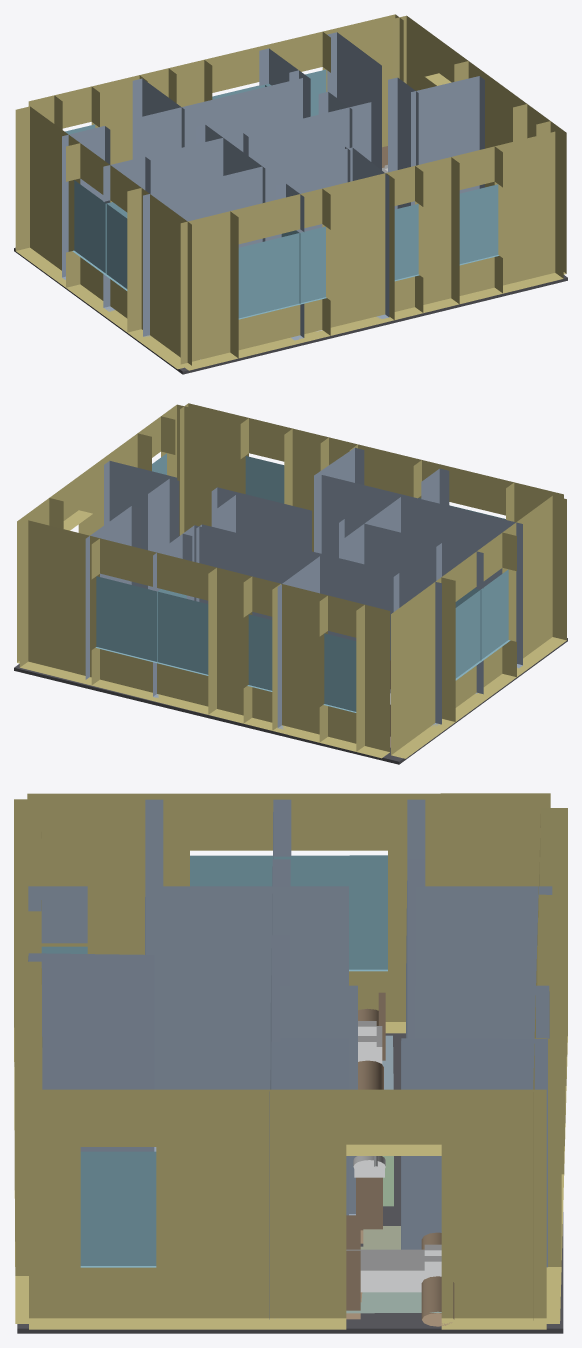
Rendered from building_3d.glb.
The picture shows the model from 3 angles, top to bottom: view 1: azimuth 30°, elevation 25°; view 2: azimuth 150°, elevation 25°; view 3: azimuth 270°, elevation 25°; orthographic projection. The views are drawn at different scales.
Parts seen in each view (by area): view 1: building; view 2: building; view 3: building.
Boxes of the visible parts, box(x1,y1,x2,y2) form: building: box(14, 14, 567, 374); building: box(14, 403, 567, 764); building: box(14, 793, 567, 1333).
Size of the model in its own units: 8.09 by 2.87 by 6.15.
